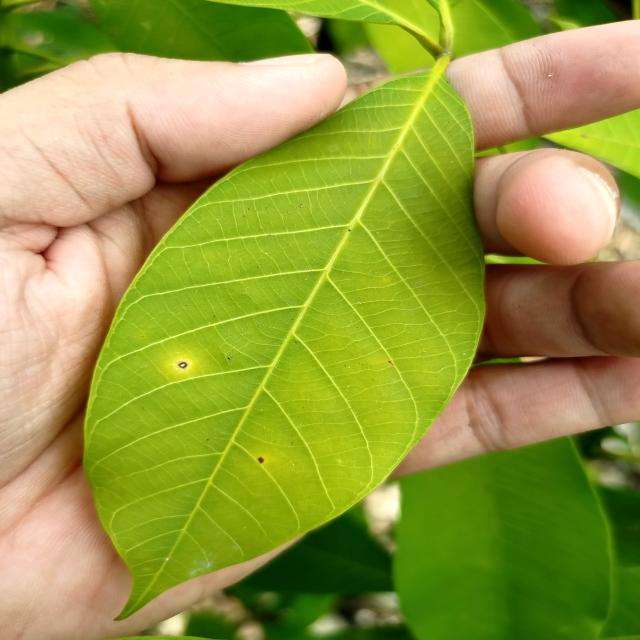Colletotrichum: (179, 362, 187, 368)
